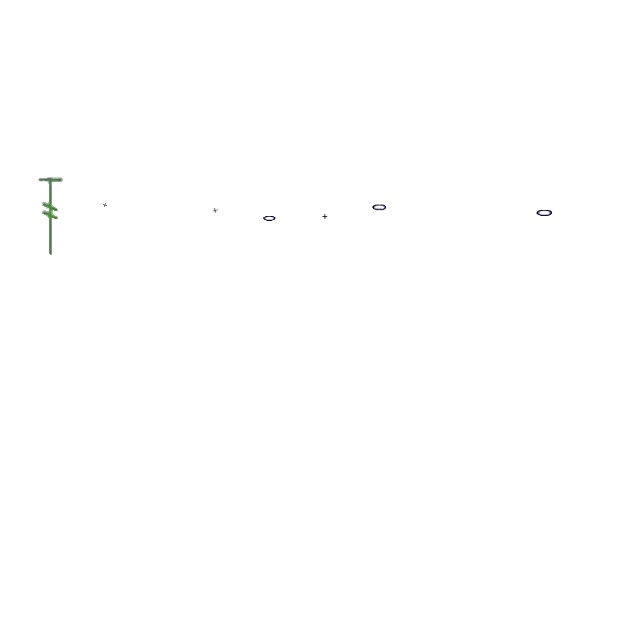chain: (536, 206, 554, 220), (372, 201, 388, 213), (262, 213, 278, 223)
double: (322, 214, 328, 220)
enseble_chain: (212, 208, 218, 214), (103, 203, 107, 207)
fan: (36, 176, 64, 258)
